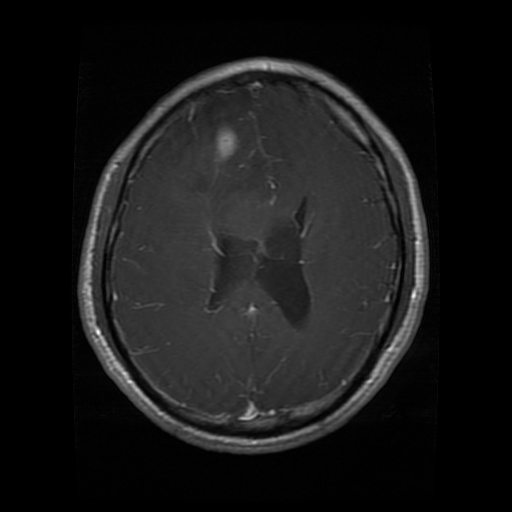glioma: (211, 204, 310, 329)
